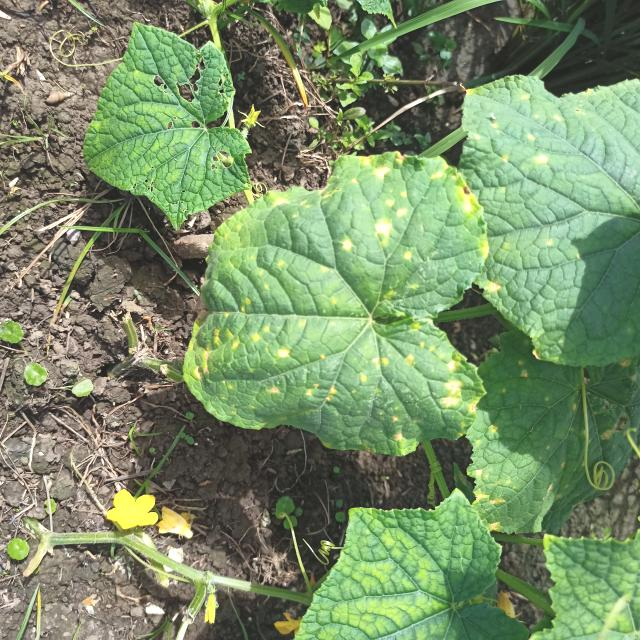disease_cucumber: (193, 156, 478, 441), (474, 354, 610, 530), (469, 90, 573, 171)
